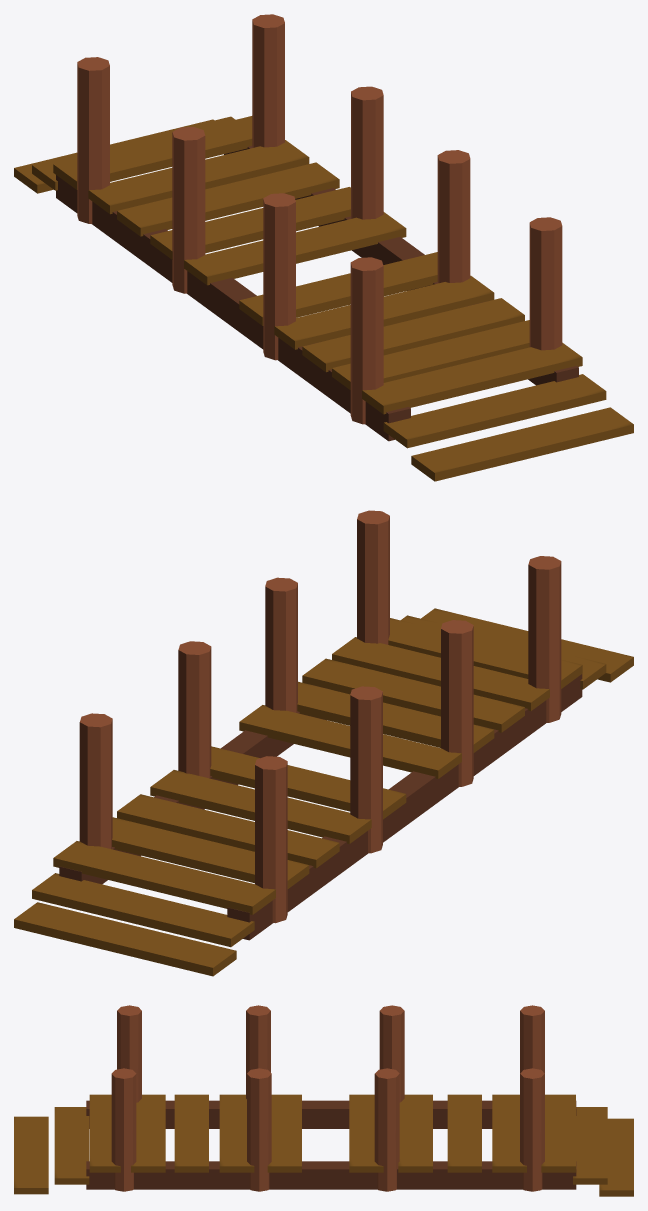
The model's file is Pier.fbx.
3 views of the same model, one above another, from view 1: azimuth 30°, elevation 25°; view 2: azimuth 150°, elevation 25°; view 3: azimuth 270°, elevation 25° (orthographic). The views are drawn at different scales.
Visible parts, largest first — view 1: Mesh_0; view 2: Mesh_0; view 3: Mesh_0.
Boxes of the visible parts, x1,y1,x2,y2 form: Mesh_0: (14,14,633,481); Mesh_0: (14,510,633,976); Mesh_0: (14,1005,633,1196).
Size of the model in its own units: 594 by 445 by 2115.
